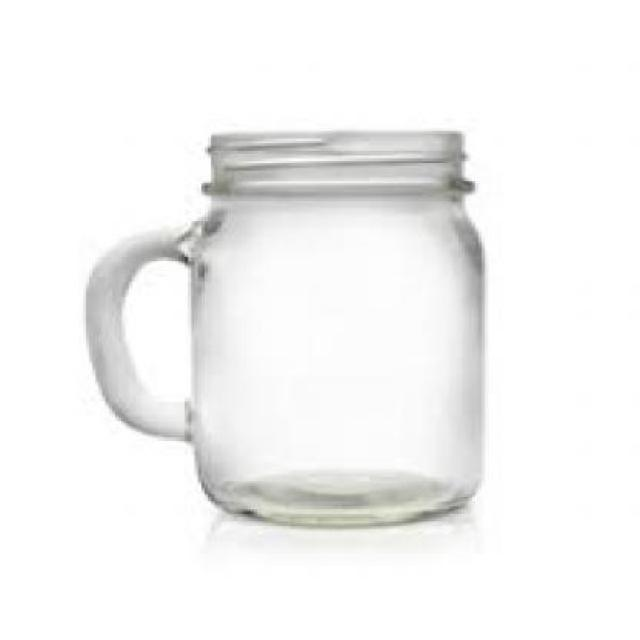kaca: (83, 129, 482, 525)
